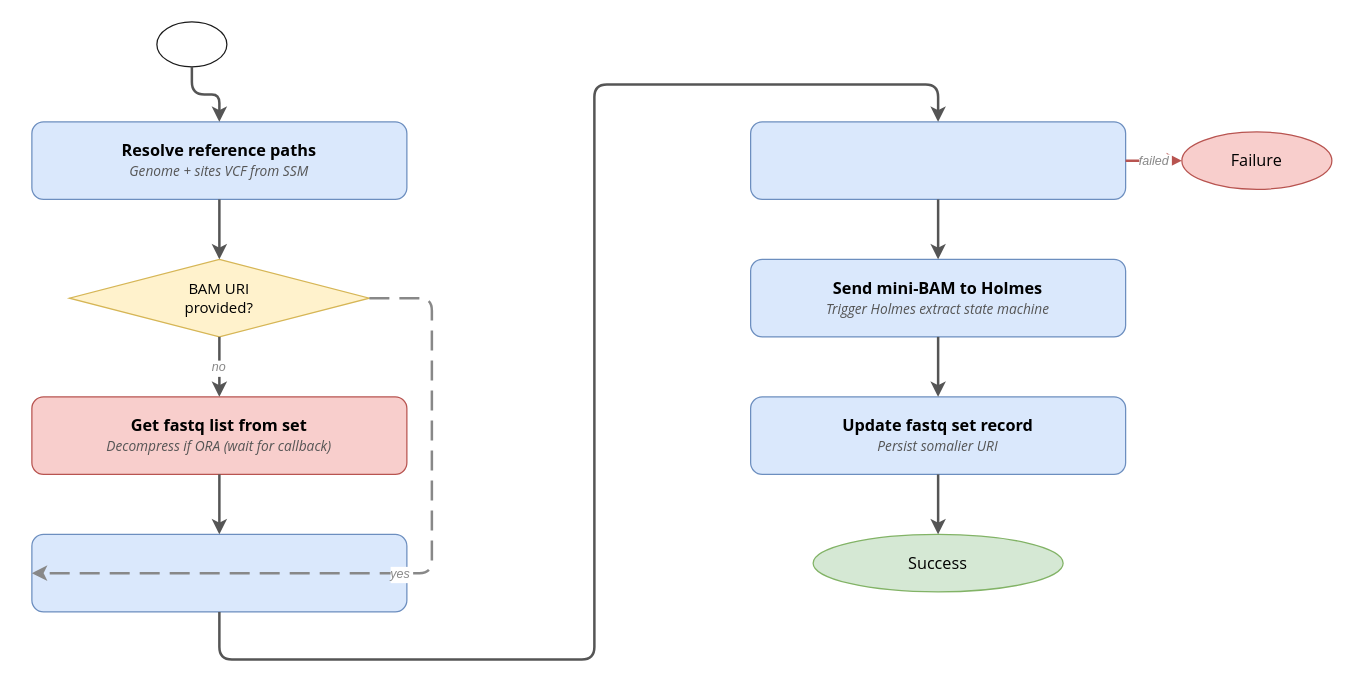
Some shapes in this 1354 by 693 pixel diagram are drawn without their labels. The shapes that lost their labels are listed below. From the top down, each one's centre as x and y in pixels, then its label:
At point 191,44: "Start".
At point 937,160: "Get library/individual metadata".
At point 219,572: "Generate fingerprint + mini-BAM Align to sites, extract somalier".
